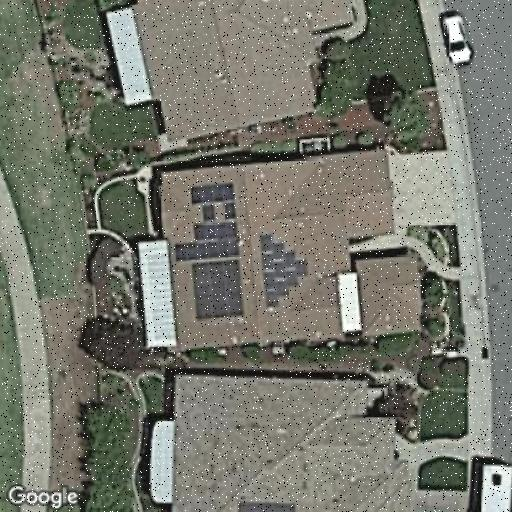solar-panel: (171, 181, 241, 261), (258, 232, 310, 310), (190, 258, 246, 322), (234, 499, 298, 511)
